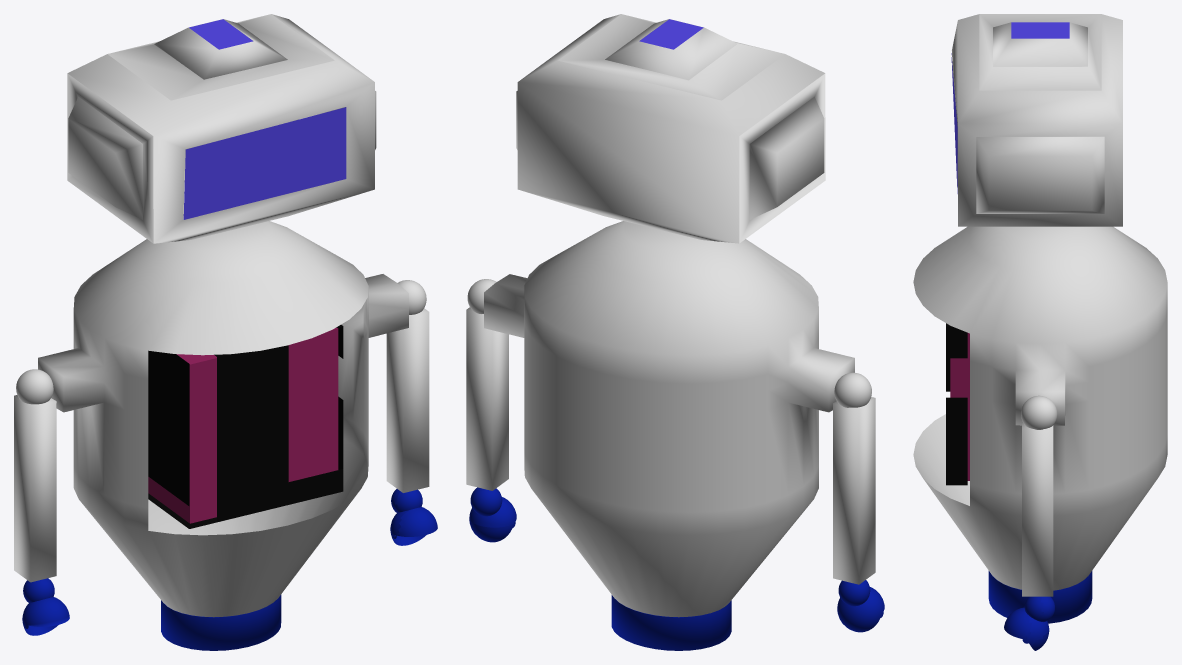
The model's file is robotYcaja.fbx.
The picture shows the model from 3 angles, left to right: view 1: azimuth 30°, elevation 25°; view 2: azimuth 150°, elevation 25°; view 3: azimuth 270°, elevation 25°; orthographic projection. The views are drawn at different scales.
Visible parts, largest first — view 1: box; view 2: box; view 3: box.
Boxes of the visible parts, bbox=[...] form: box: bbox=[14, 14, 437, 650]; box: bbox=[466, 14, 884, 650]; box: bbox=[913, 14, 1167, 650].
Size of the model in its own units: 451 by 624 by 253.
